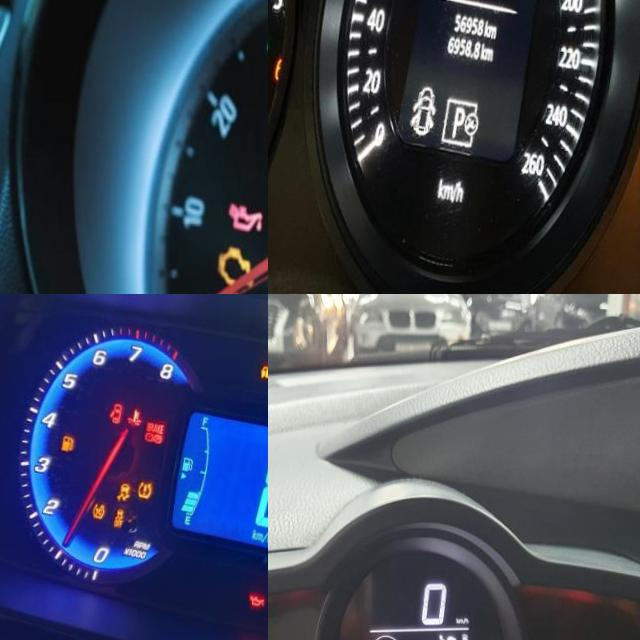Doors: (106, 403, 122, 425)
Engine cooling system: (124, 407, 142, 427)
Low fuel level: (58, 434, 73, 452)
